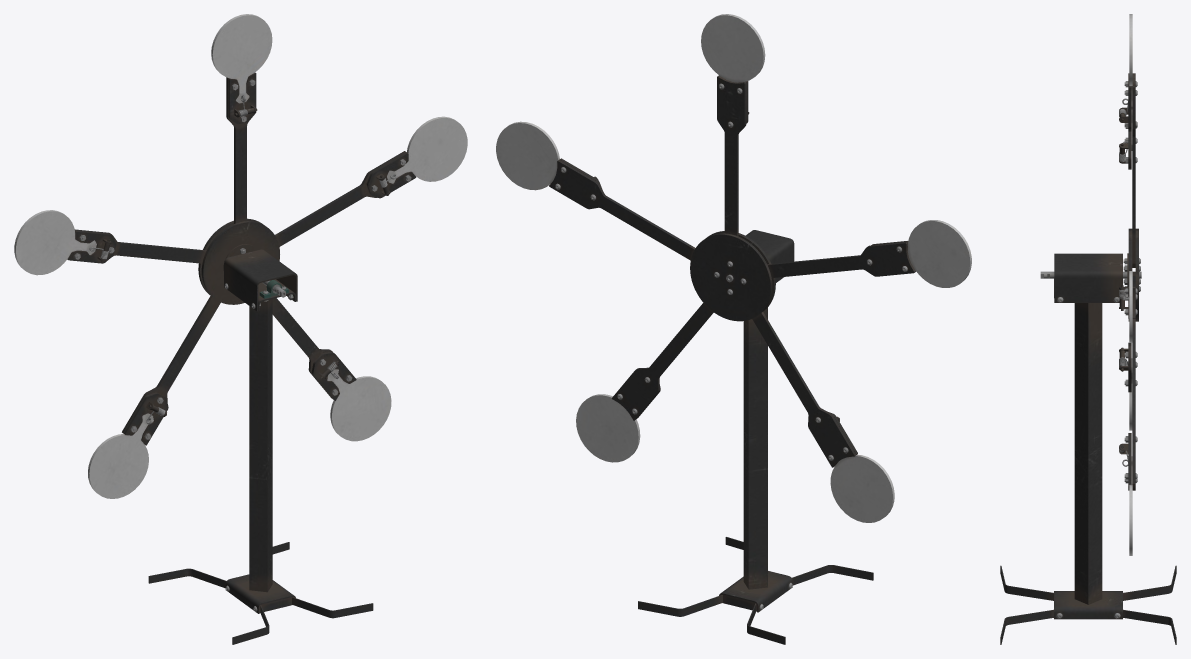
File: target_texas_star.glb
3 renders of one model, left to right at view 1: azimuth 30°, elevation 25°; view 2: azimuth 150°, elevation 25°; view 3: azimuth 270°, elevation 25°, orthographic. The views are drawn at different scales.
Visible parts, largest first — view 1: TexasStar_Arm_TargetSet02_0, TexasStar_Stand_TargetSet02_0, TexasStar_Plate_02_TargetSet02_0, TexasStar_Plate_01_TargetSet02_0, TexasStar_Plate_03_TargetSet02_0, TexasStar_Plate_05_TargetSet02_0, TexasStar_Plate_04_TargetSet02_0; view 2: TexasStar_Arm_TargetSet02_0, TexasStar_Stand_TargetSet02_0, TexasStar_Plate_01_TargetSet02_0, TexasStar_Plate_02_TargetSet02_0, TexasStar_Plate_03_TargetSet02_0, TexasStar_Plate_05_TargetSet02_0, TexasStar_Plate_04_TargetSet02_0; view 3: TexasStar_Stand_TargetSet02_0, TexasStar_Arm_TargetSet02_0, TexasStar_Plate_04_TargetSet02_0, TexasStar_Plate_01_TargetSet02_0, TexasStar_Plate_05_TargetSet02_0.
Part boxes in pixels (x1,y1,x2,y2): TexasStar_Arm_TargetSet02_0: (67, 72, 416, 445); TexasStar_Stand_TargetSet02_0: (148, 249, 373, 644); TexasStar_Plate_02_TargetSet02_0: (14, 210, 96, 275); TexasStar_Plate_01_TargetSet02_0: (211, 14, 272, 103); TexasStar_Plate_03_TargetSet02_0: (88, 413, 153, 498); TexasStar_Plate_05_TargetSet02_0: (387, 116, 467, 183); TexasStar_Plate_04_TargetSet02_0: (327, 369, 391, 441); TexasStar_Arm_TargetSet02_0: (549, 75, 915, 467); TexasStar_Stand_TargetSet02_0: (638, 230, 873, 644); TexasStar_Plate_01_TargetSet02_0: (701, 14, 765, 82); TexasStar_Plate_02_TargetSet02_0: (907, 220, 971, 287); TexasStar_Plate_03_TargetSet02_0: (830, 454, 894, 522); TexasStar_Plate_05_TargetSet02_0: (496, 121, 559, 190); TexasStar_Plate_04_TargetSet02_0: (576, 394, 640, 462); TexasStar_Stand_TargetSet02_0: (1000, 253, 1176, 644); TexasStar_Arm_TargetSet02_0: (1040, 73, 1141, 490); TexasStar_Plate_04_TargetSet02_0: (1129, 456, 1132, 555); TexasStar_Plate_01_TargetSet02_0: (1129, 14, 1132, 109); TexasStar_Plate_05_TargetSet02_0: (1129, 271, 1132, 342).
Bounding box in the file's own units: 1.54 × 1.84 × 0.4969.
1 material, 1 textured.
